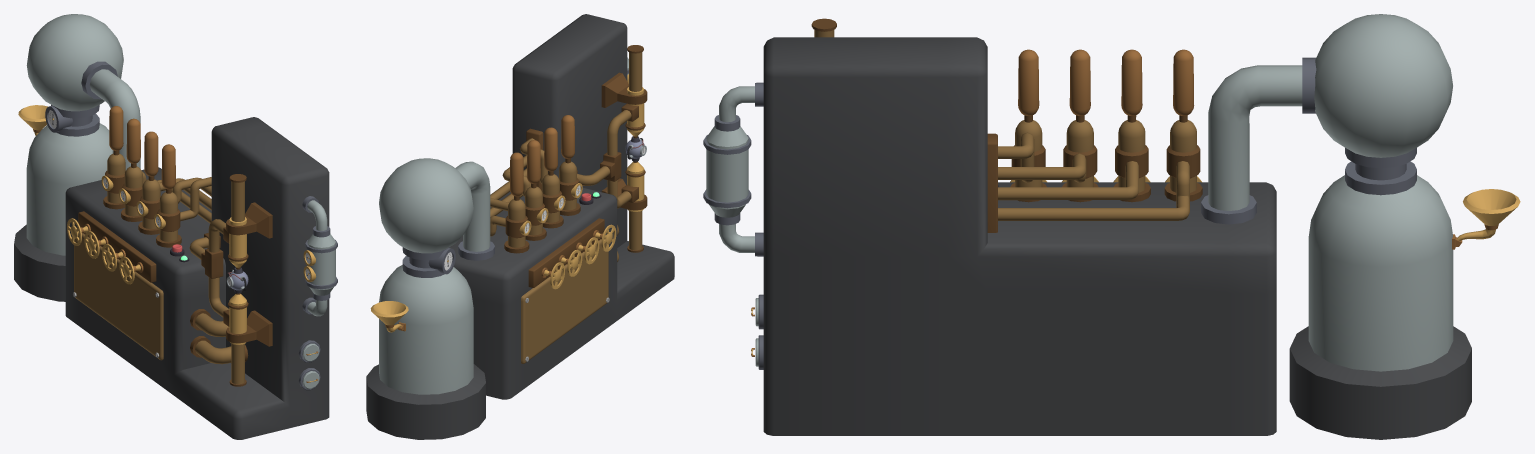
Rendered from SteamCore (9).fbx.
3 views of the same model, side by side, from view 1: azimuth 30°, elevation 25°; view 2: azimuth 150°, elevation 25°; view 3: azimuth 270°, elevation 25° (orthographic). The views are drawn at different scales.
Parts seen in each view (by area): view 1: SCM_Body, SCM_Panel, SCM_Piston_Top, SCM_Piston_Bottom, Steamcore_Body; view 2: SCM_Body, SCM_Panel, SCM_Piston_Top, SCM_Piston_Bottom, Steamcore_Body, SCM_Valve_03, SCM_Valve_02, SCM_Valve_04; view 3: SCM_Body.
Part boxes in pixels (<box>): SCM_Body: <box>14,14,337,439</box>; SCM_Panel: <box>74,233,163,360</box>; SCM_Piston_Top: <box>229,174,246,221</box>; SCM_Piston_Bottom: <box>229,343,246,386</box>; Steamcore_Body: <box>226,267,248,293</box>; SCM_Body: <box>366,14,674,439</box>; SCM_Panel: <box>521,239,608,363</box>; SCM_Piston_Top: <box>627,45,643,91</box>; SCM_Piston_Bottom: <box>627,211,643,252</box>; Steamcore_Body: <box>625,136,646,161</box>; SCM_Valve_03: <box>584,237,599,264</box>; SCM_Valve_02: <box>567,249,582,276</box>; SCM_Valve_04: <box>601,224,616,251</box>; SCM_Body: <box>703,14,1520,439</box>.
Size of the model in its own units: 151 by 304 by 590.
27 materials, 2 textured.
